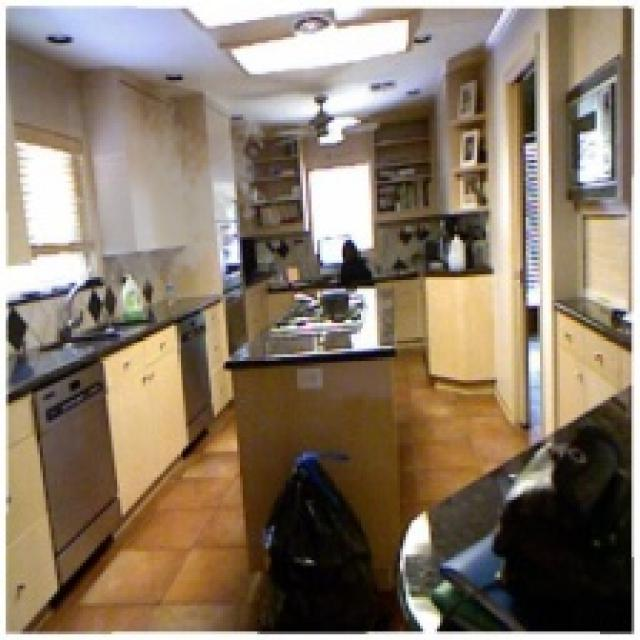smoke: (66, 89, 271, 300)
